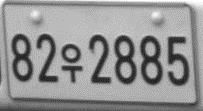2: (87, 33, 112, 83), (35, 33, 59, 83)
5: (166, 35, 189, 85)
8: (113, 34, 137, 84), (139, 34, 163, 84), (10, 32, 33, 81)
우: (60, 43, 83, 82)
